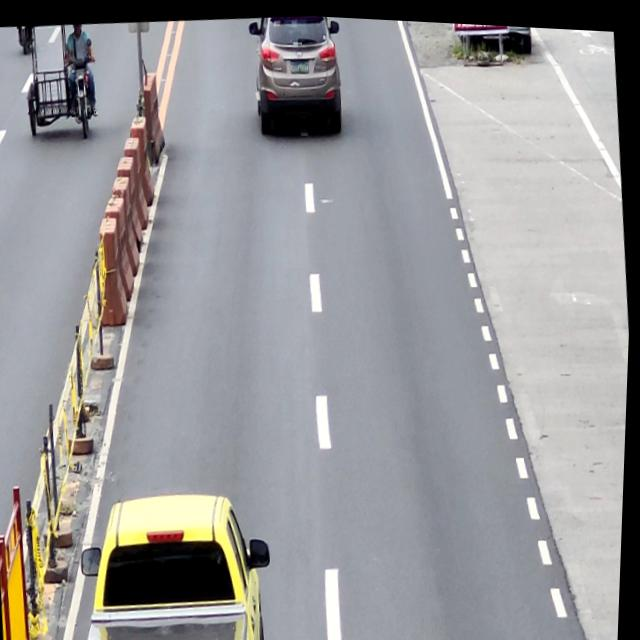Car: (73, 479, 283, 640), (243, 10, 347, 134)
License-Plate: (289, 54, 310, 71)
